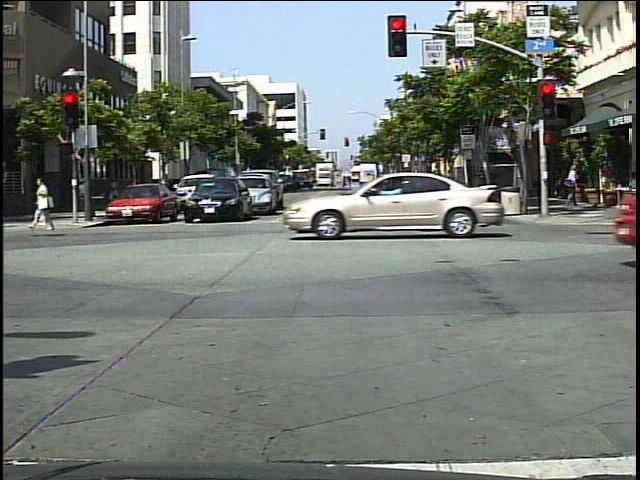person: (30, 171, 61, 235), (562, 161, 584, 212)
